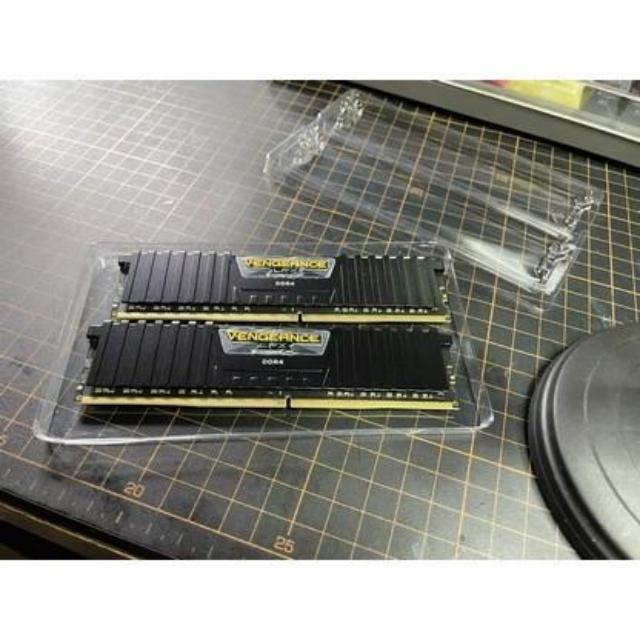RAM: (75, 320, 470, 418), (110, 243, 450, 331)
